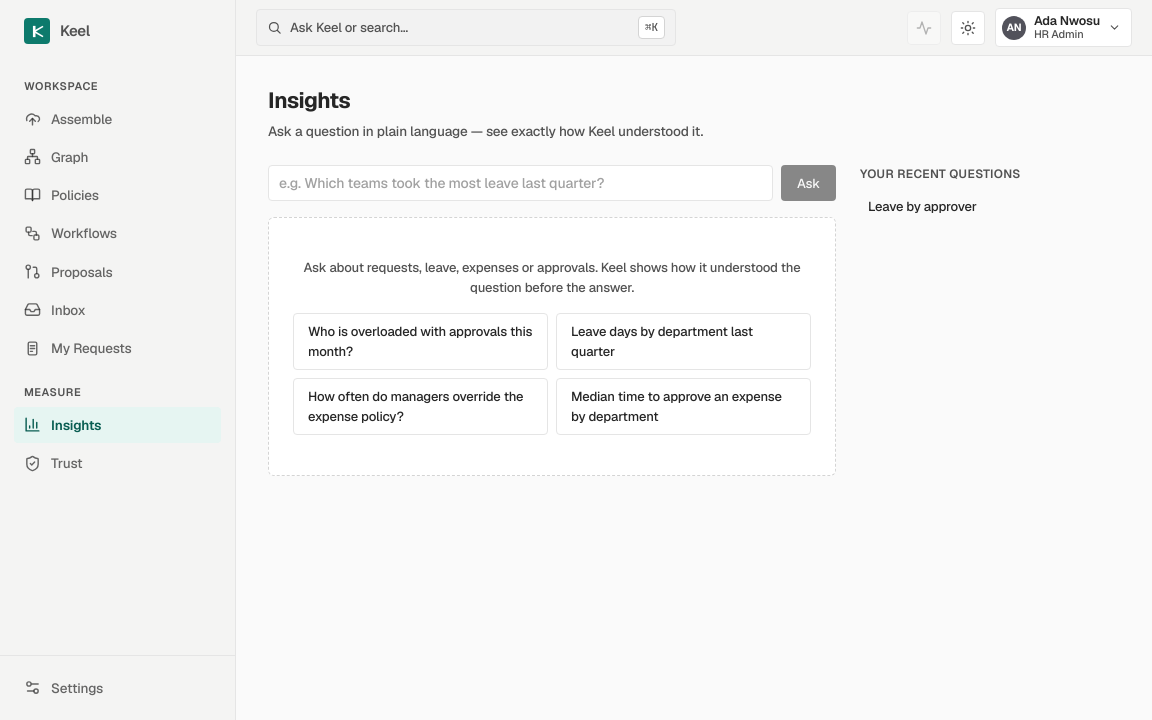
Test: /insights › reopens a recent question, showing the friendly reason it could not be answered
Click the button "Leave by approver".
click(922, 207)  # box [860,191,1120,223]
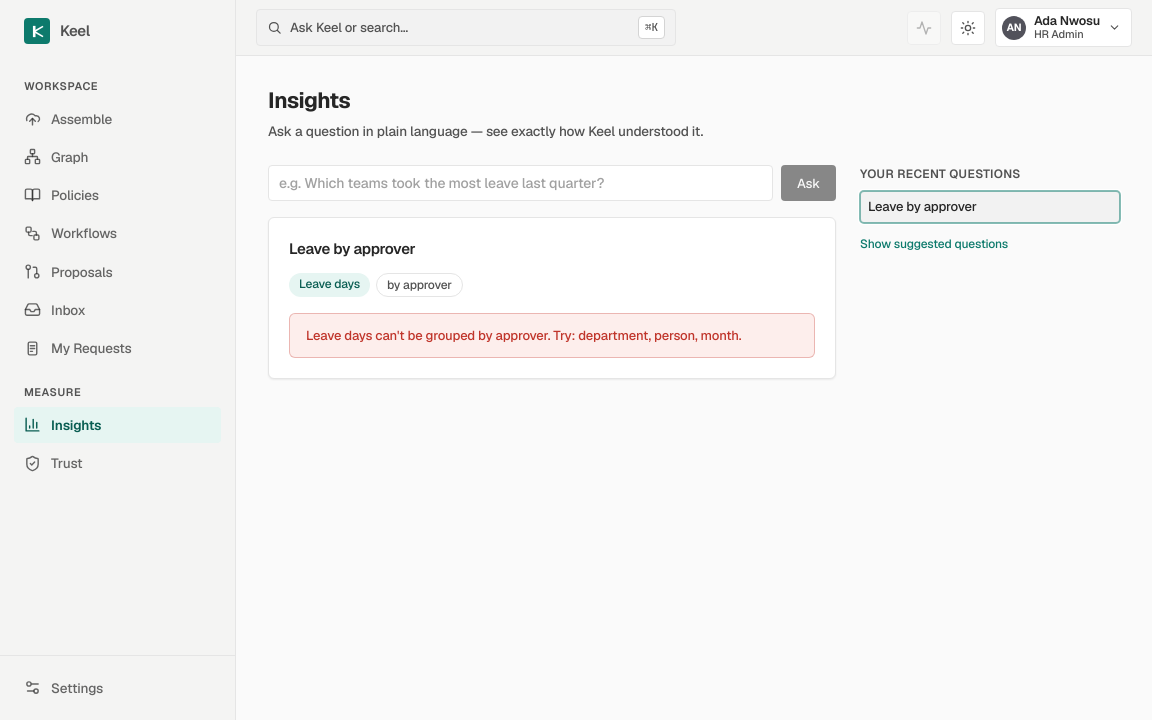
Now the text "Leave days can't be grouped by approver. Try: department, person, month." is shown, box [289,313,815,358]
Now the list items read "Leave days", "by approver", in this order, box [289,273,370,297]; [376,273,463,297]
